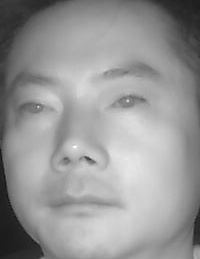eye: (106, 89, 151, 116), (20, 96, 56, 120)
mouth: (48, 179, 123, 221)
